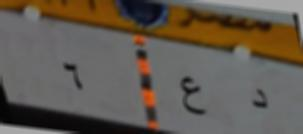6: (56, 59, 90, 94)
ain: (177, 75, 212, 126)
daal: (241, 81, 271, 116)
